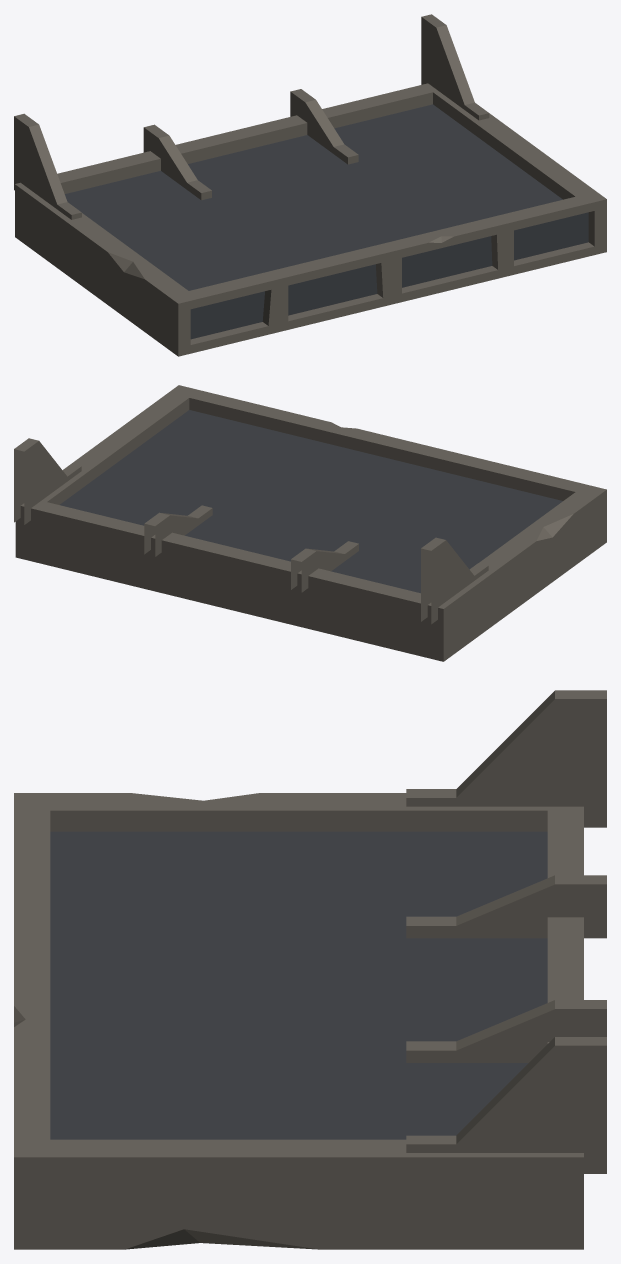
File: SM_Bld_Shop_Cover_02.fbx
3 renders of one model, top to bottom at view 1: azimuth 30°, elevation 25°; view 2: azimuth 150°, elevation 25°; view 3: azimuth 270°, elevation 25°, orthographic. The views are drawn at different scales.
Parts seen in each view (by area): view 1: SM_Bld_Shop_Cover_02; view 2: SM_Bld_Shop_Cover_02; view 3: SM_Bld_Shop_Cover_02.
Part boxes in pixels (bbox=[...]): SM_Bld_Shop_Cover_02: bbox=[14, 14, 606, 356]; SM_Bld_Shop_Cover_02: bbox=[14, 385, 606, 661]; SM_Bld_Shop_Cover_02: bbox=[14, 690, 606, 1249].
Size of the model in its own units: 471 by 120 by 324.
